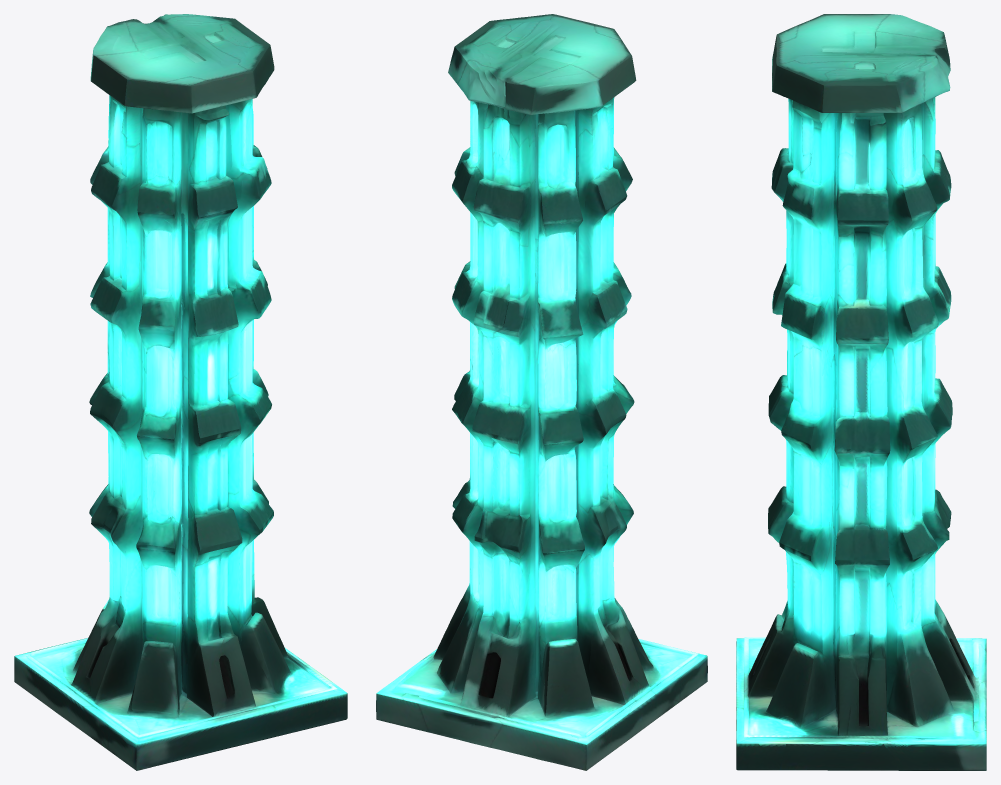
The model's file is power_tower.glb.
3 views of the same model, side by side, from view 1: azimuth 30°, elevation 25°; view 2: azimuth 150°, elevation 25°; view 3: azimuth 270°, elevation 25° (orthographic). The views are drawn at different scales.
Visible parts, largest first — view 1: model; view 2: model; view 3: model.
Part boxes in pixels (box(x1,y1,x2,y2)): model: box(14, 14, 347, 770); model: box(376, 14, 707, 770); model: box(736, 14, 986, 770).
Bounding box in the file's own units: 0.6392 × 1.89 × 0.6391.
Materials: 1 (1 with a texture image).
